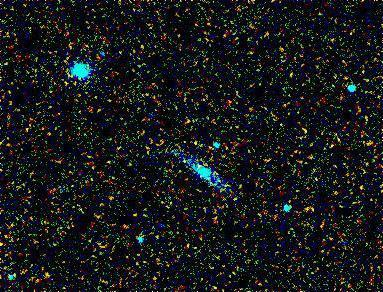star: (292, 195, 322, 225)
